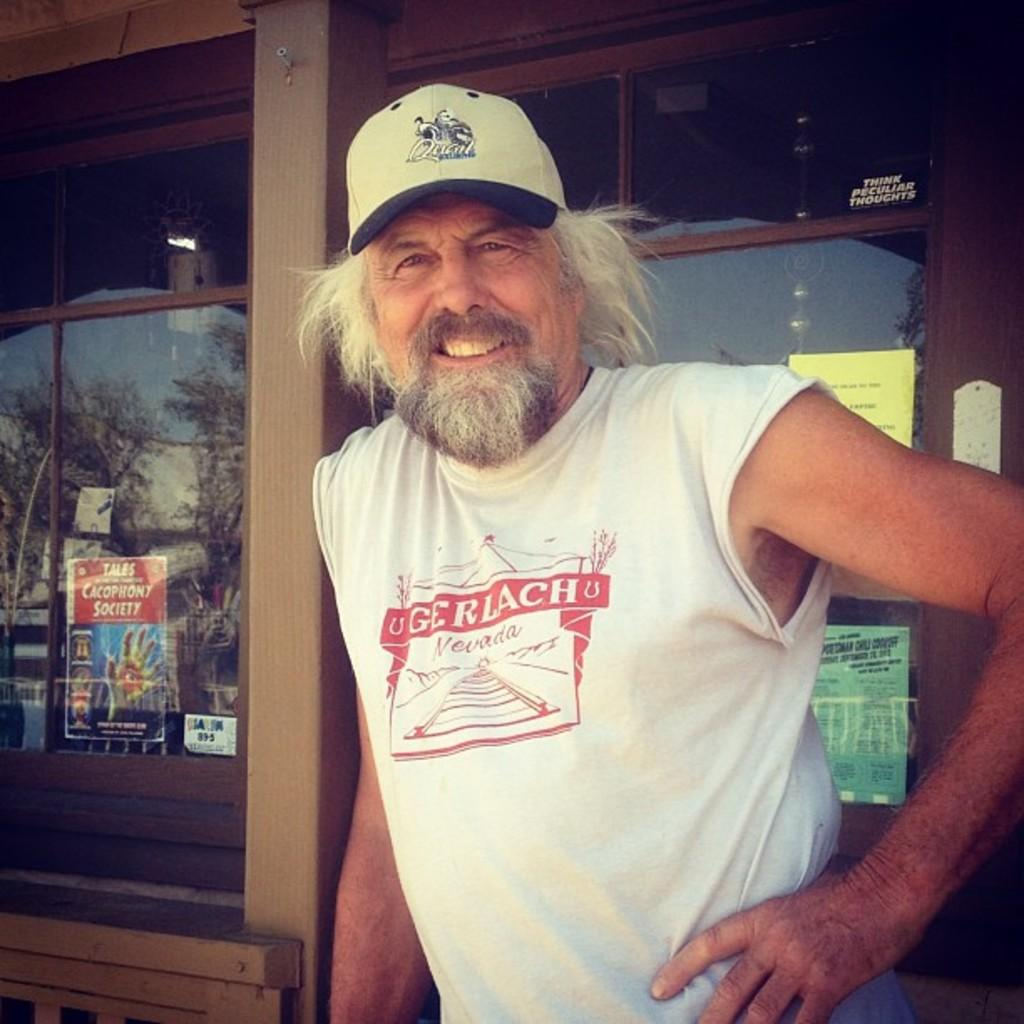Hat: (344, 85, 562, 242)
